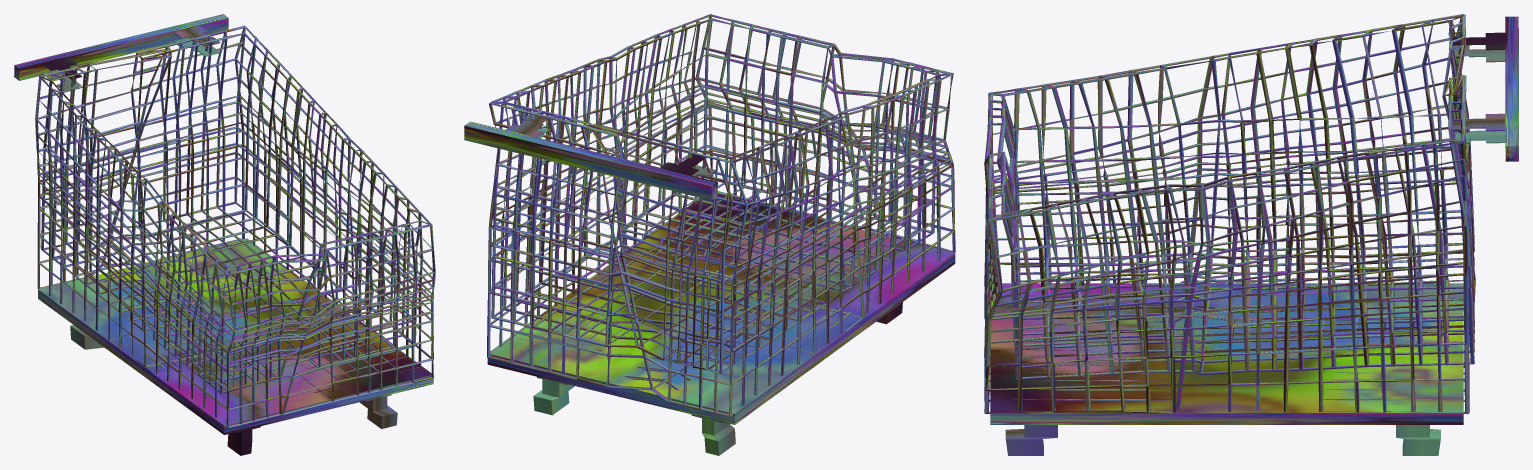
Rendered from grocery.fbx.
3 renders of one model, left to right at view 1: azimuth 30°, elevation 25°; view 2: azimuth 150°, elevation 25°; view 3: azimuth 270°, elevation 25°, orthographic. The views are drawn at different scales.
Visible parts, largest first — view 1: Cube, Cube.002; view 2: Cube, Cube.002; view 3: Cube, Cube.002.
Part boxes in pixels (left/top/right/bottom): Cube: left=35, top=25, right=435, bottom=428; Cube.002: left=14, top=14, right=433, bottom=455; Cube: left=487, top=14, right=955, bottom=416; Cube.002: left=464, top=114, right=955, bottom=455; Cube: left=984, top=14, right=1475, bottom=414; Cube.002: left=990, top=16, right=1518, bottom=455.
Size of the model in its own units: 353 by 398 by 581.
